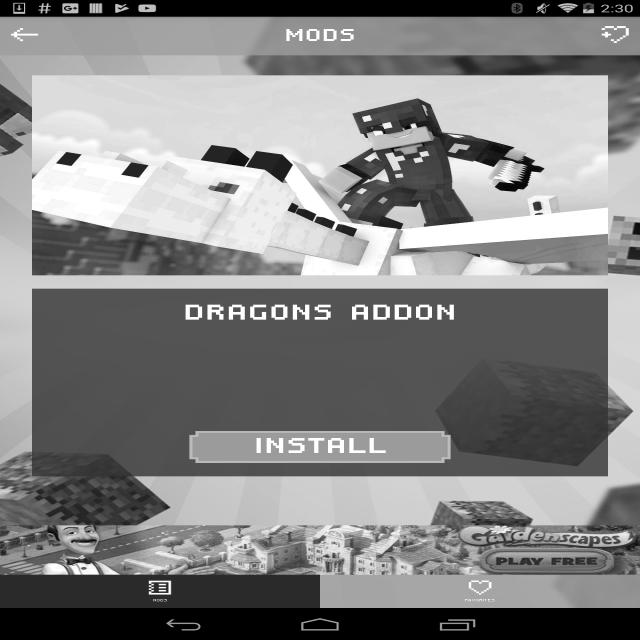Button: (189, 431, 451, 463)
ImageButton: (148, 580, 172, 595), (468, 580, 492, 595)
ImageView: (32, 76, 608, 276), (0, 525, 640, 575), (0, 17, 640, 55), (11, 26, 38, 43), (602, 26, 629, 43)
TextView: (183, 302, 456, 325), (284, 27, 356, 45), (464, 598, 495, 602), (152, 598, 168, 602)
